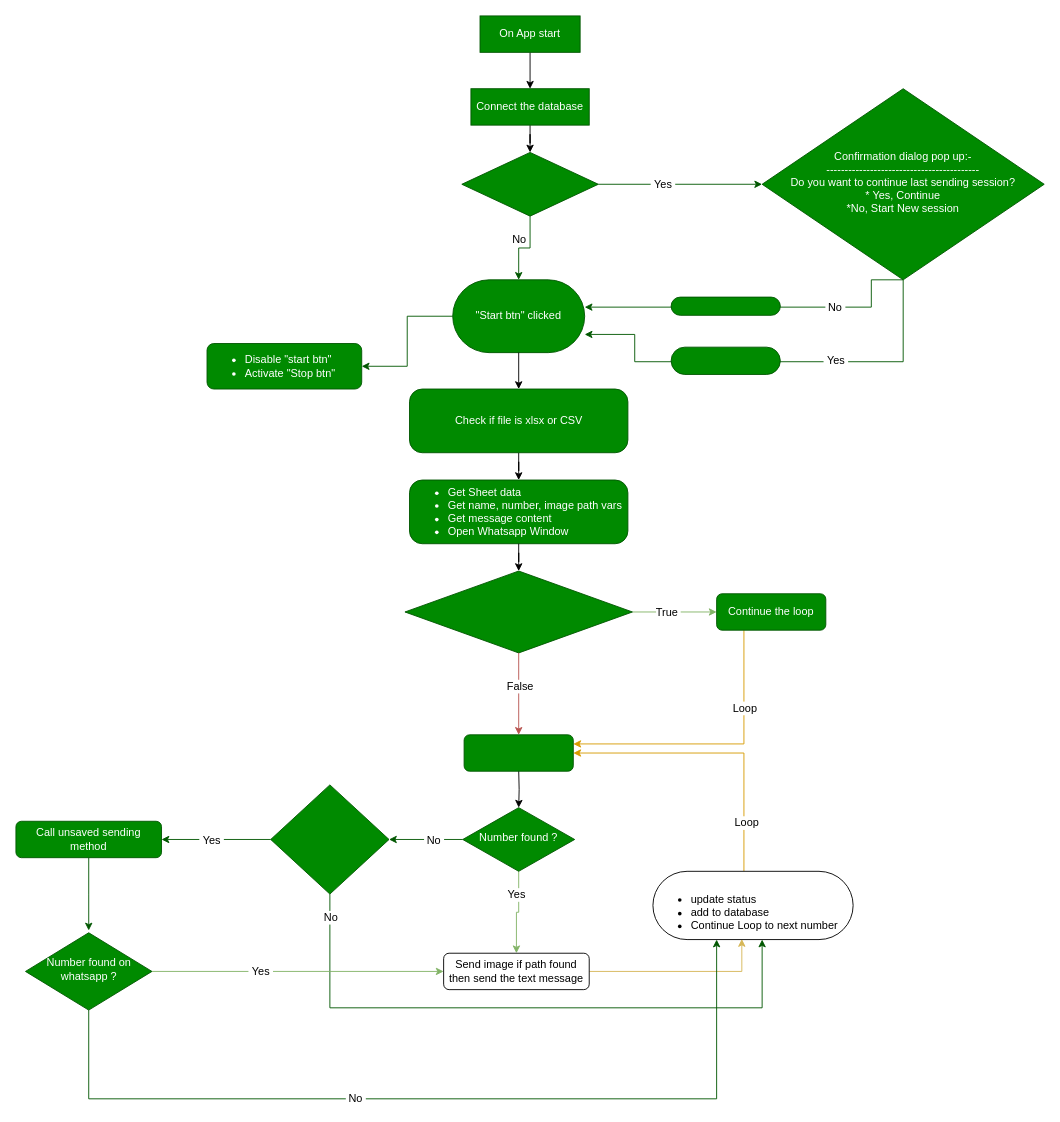
The diagram is 1060 pixels wide and 1122 high, and some of its shapes have lost their labels. Each missing label, with the centre of its shape:
check if number found on the database: point (518, 611)
Clear Database: point (725, 305)
Load data to the interface: point (725, 360)
Saved data found ?: point (529, 184)
Search for the number: point (518, 752)
Unknown sending checked?: point (329, 839)
